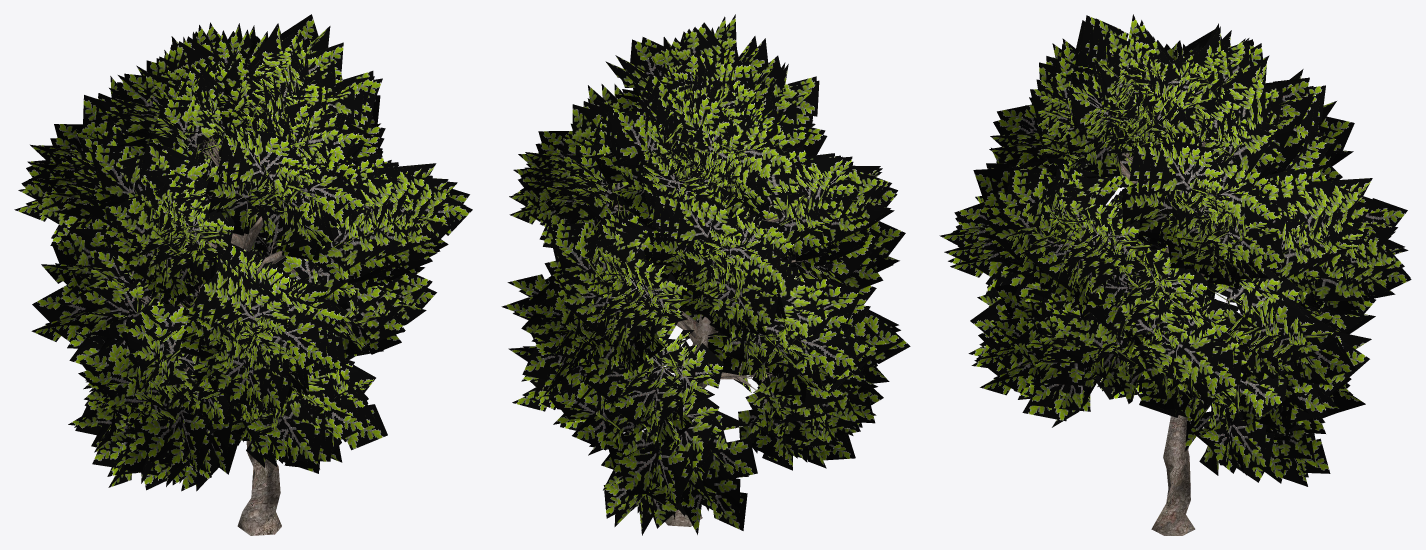
File: tree3.glb
The picture shows the model from 3 angles, left to right: view 1: azimuth 30°, elevation 25°; view 2: azimuth 150°, elevation 25°; view 3: azimuth 270°, elevation 25°; orthographic projection. The views are drawn at different scales.
Parts seen in each view (by area): view 1: Tree3; view 2: Tree3; view 3: Tree3.
Part boxes in pixels (x1,y1,x2,y2): Tree3: (14, 14, 472, 535); Tree3: (501, 14, 910, 535); Tree3: (939, 14, 1411, 535).
Bounding box in the file's own units: 4.23 × 5.76 × 4.82.
Materials: 2 (2 with a texture image).
